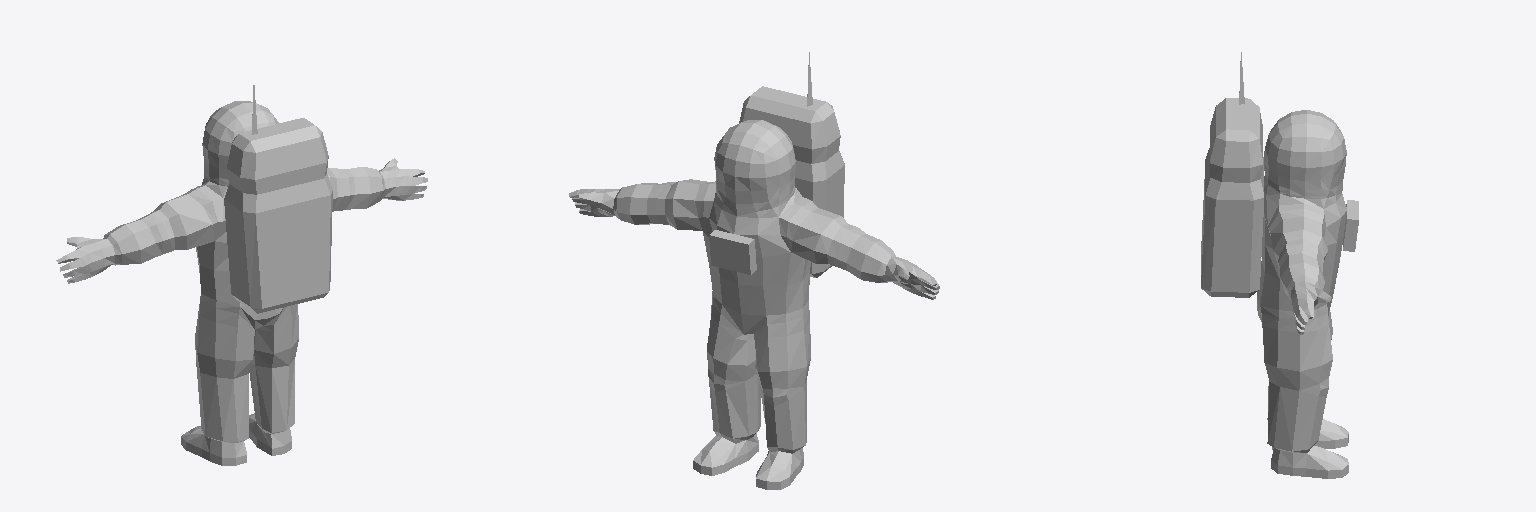
Rendered from astronaut.obj.
3 views of the same model, side by side, from view 1: azimuth 30°, elevation 25°; view 2: azimuth 150°, elevation 25°; view 3: azimuth 270°, elevation 25° (orthographic).
Visible parts, largest first — view 1: 宇航员.1; view 2: 宇航员.1; view 3: 宇航员.1.
Boxes of the visible parts, x1,y1,x2,y2 form: 宇航员.1: [56, 85, 427, 465]; 宇航员.1: [569, 52, 939, 489]; 宇航员.1: [1201, 52, 1358, 478].
Size of the model in its own units: 671 by 699 by 250.